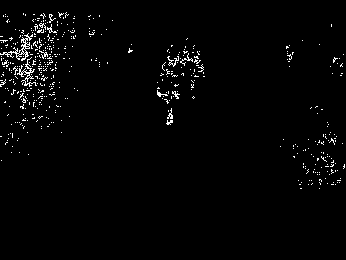person: (158, 62, 180, 127)
